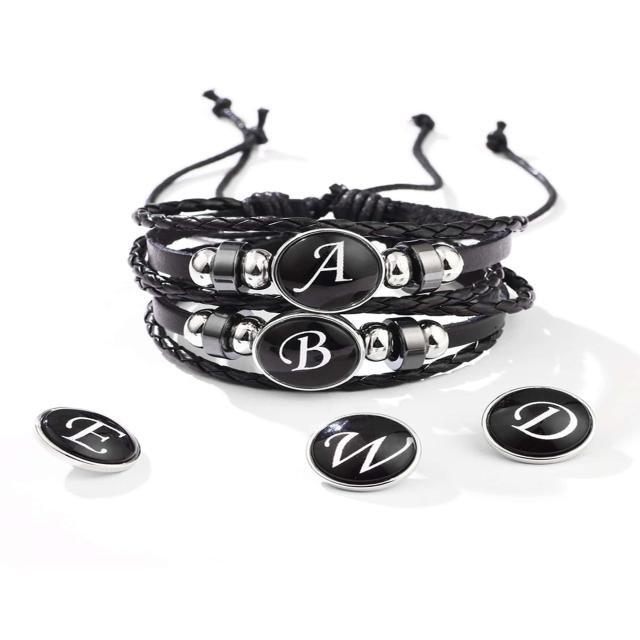bracelet: (99, 31, 604, 391)
